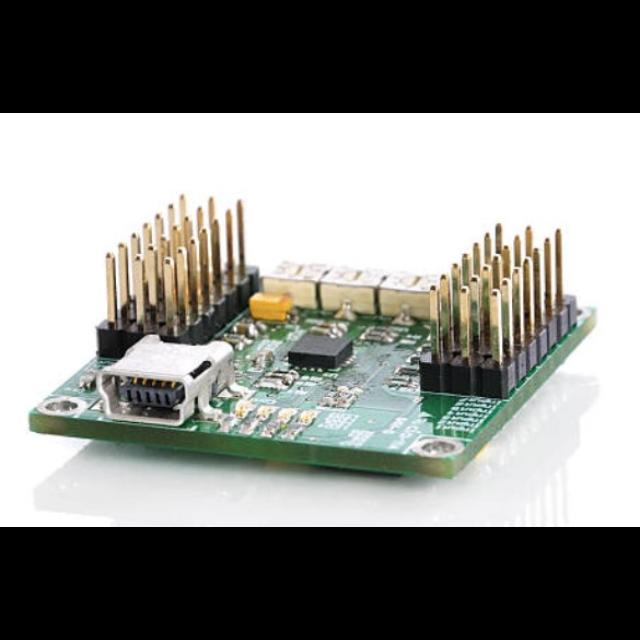PCB: (31, 195, 598, 481)
